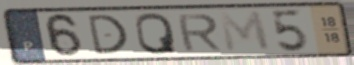5: (269, 8, 311, 53)
6: (43, 11, 86, 59)
D: (85, 13, 130, 57)
M: (216, 9, 274, 54)
Q: (133, 11, 180, 57)
R: (175, 12, 225, 53)
